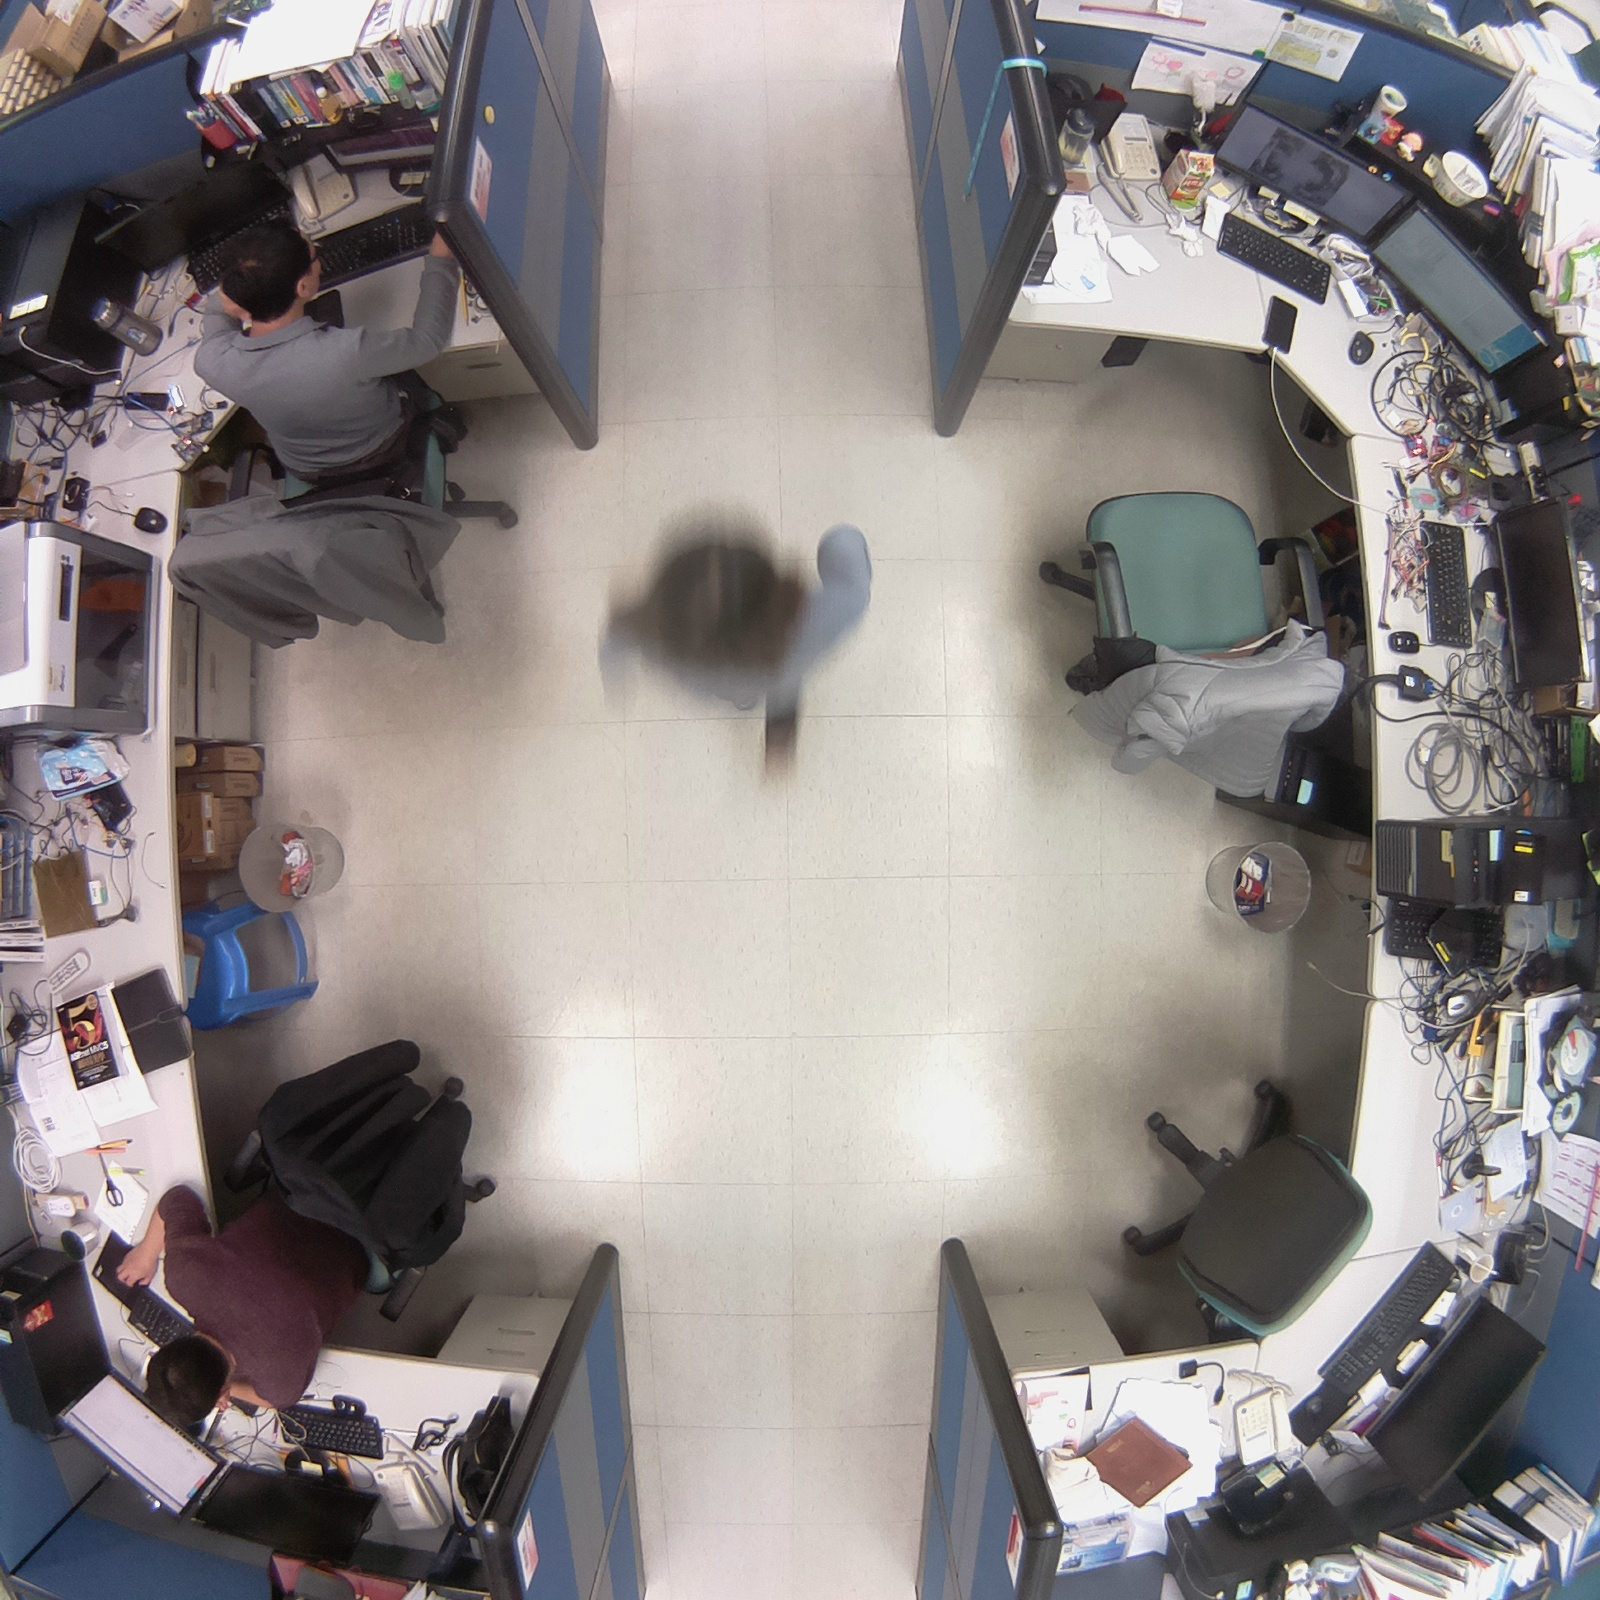chair: (1029, 456, 1374, 818), (1100, 1061, 1383, 1358)
sitting: (151, 185, 529, 674), (105, 1017, 516, 1453)
walking: (547, 488, 908, 823)
